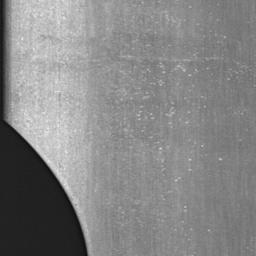Crescent gap: (6, 122, 88, 256)
